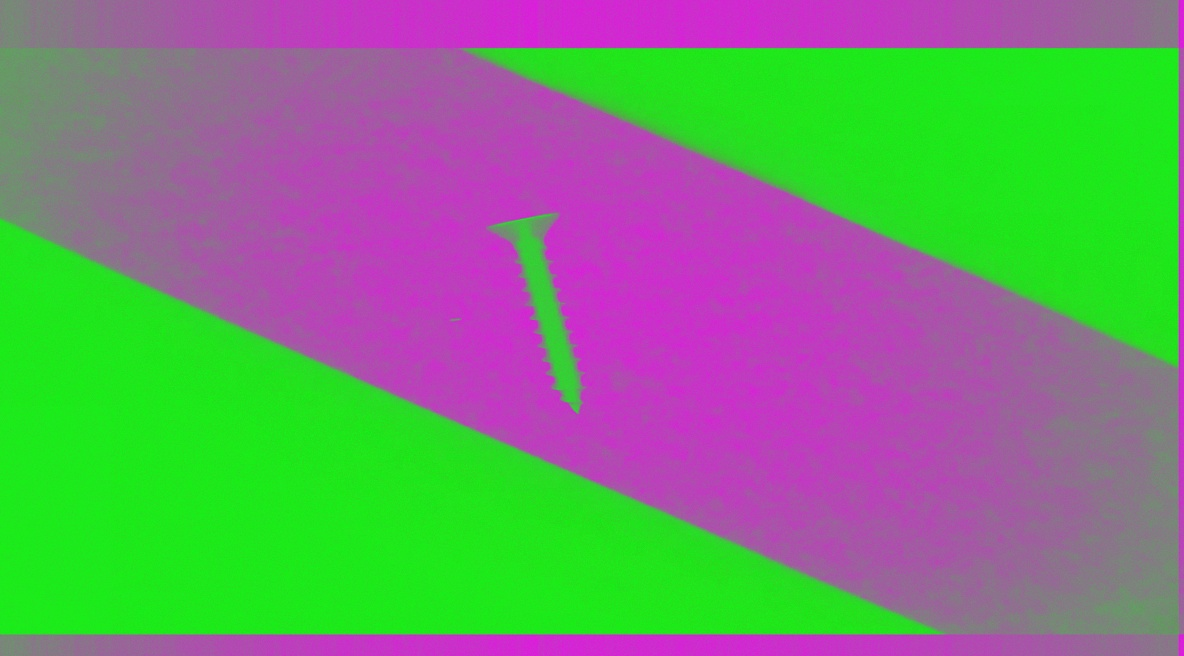S001: (478, 199, 592, 419)
